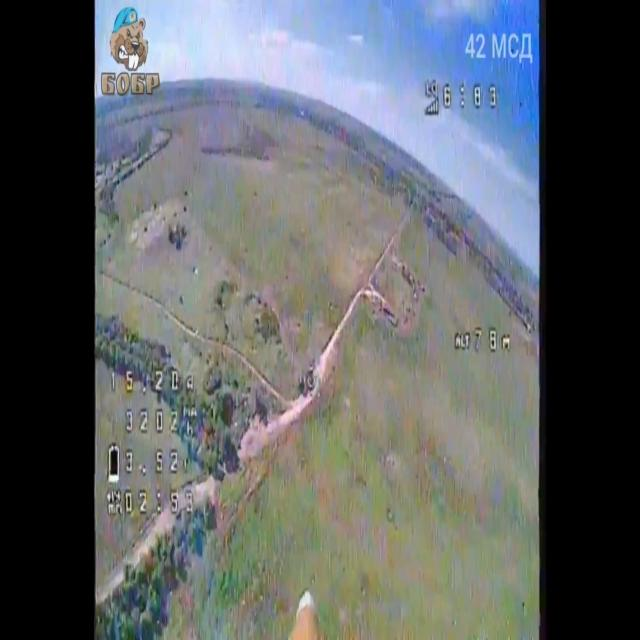cars: (301, 368, 317, 397)
